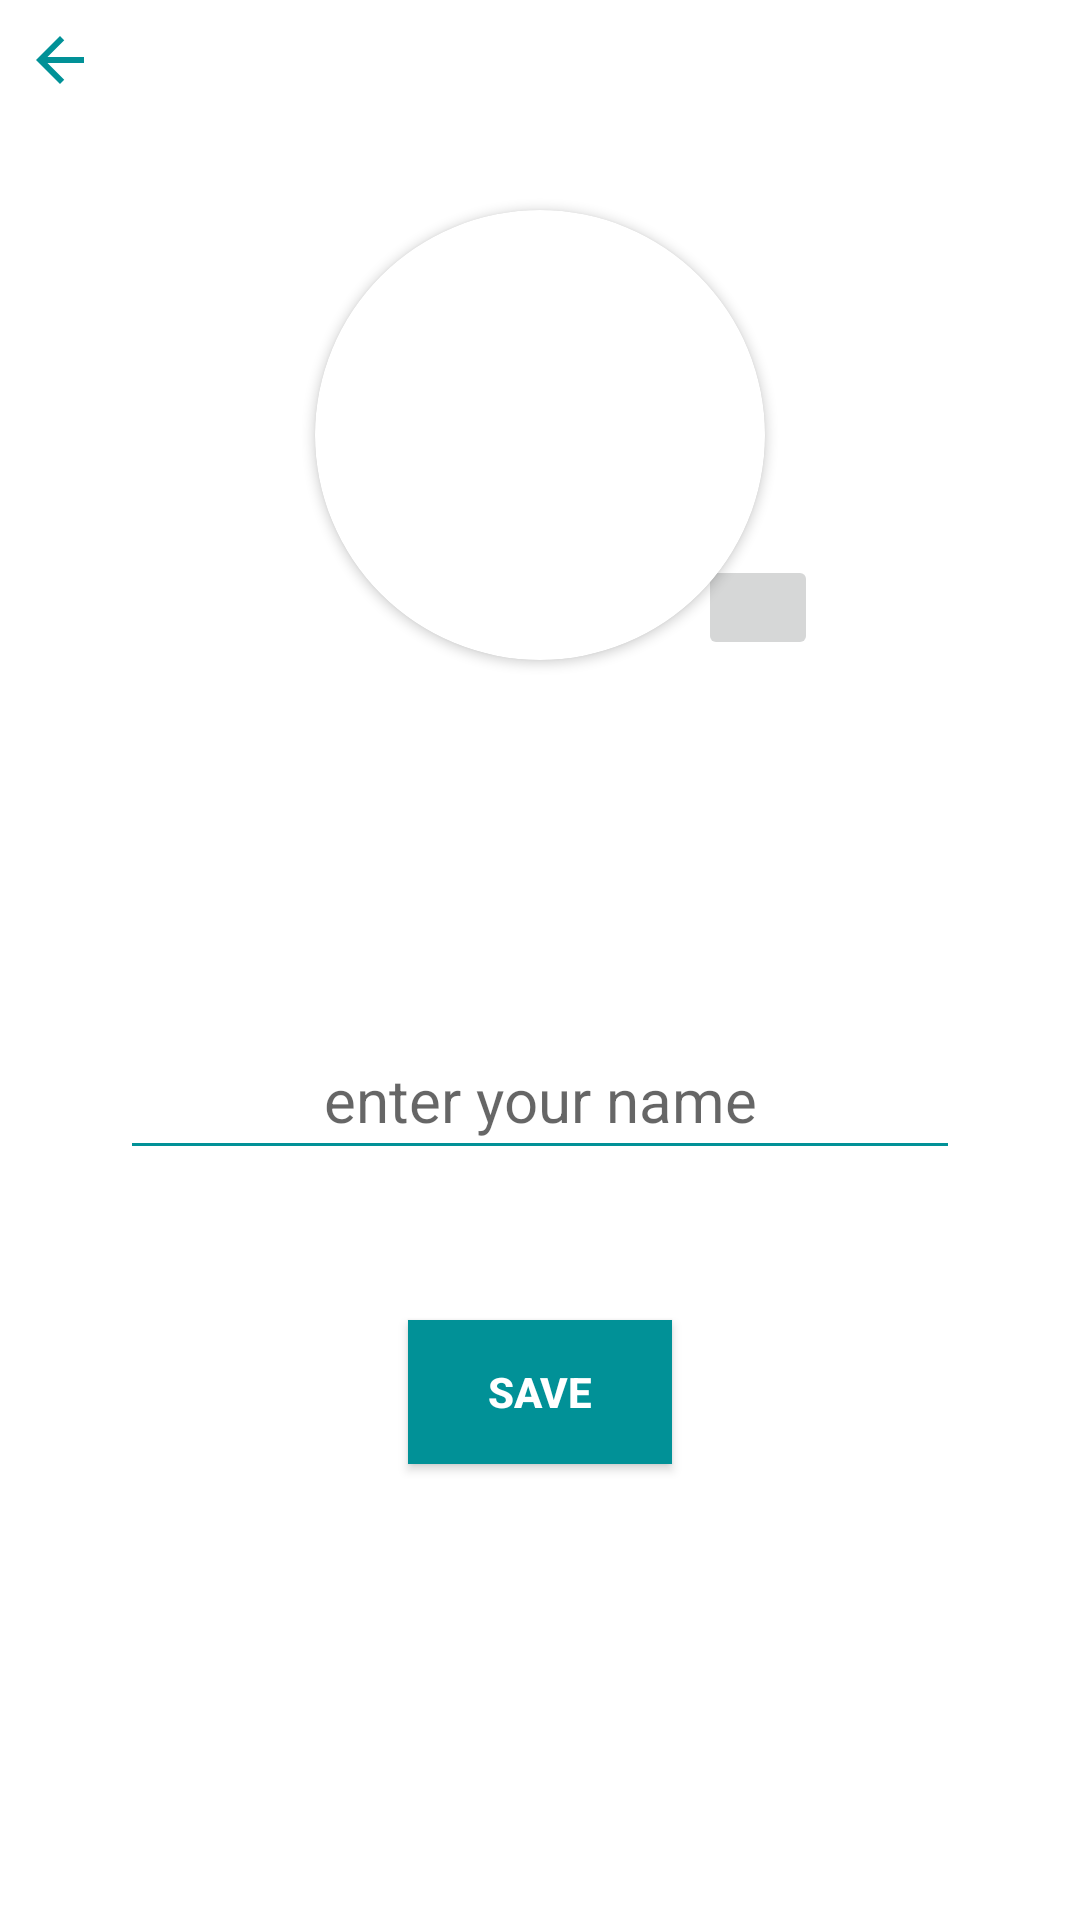

Named icons in this screenshot (1080px x 1920px) and their bounding boxes, region(x1, y1, x2, y2):
backicon: region(36, 36, 84, 84)
